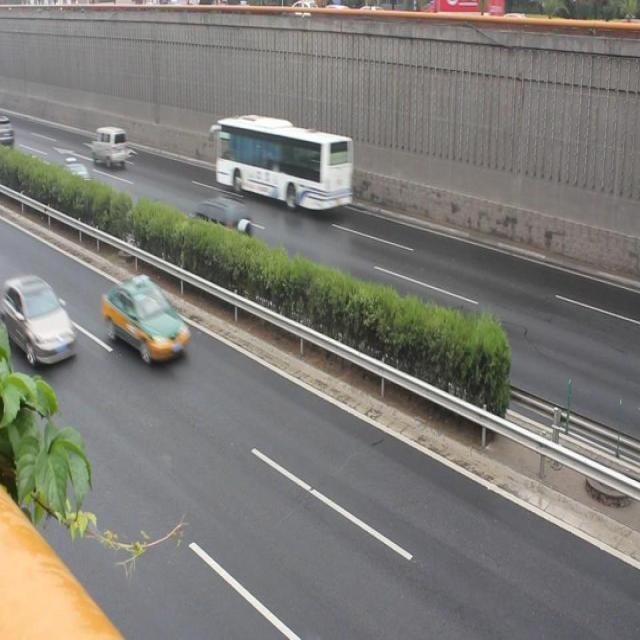car: (102, 274, 191, 368), (1, 271, 76, 373), (187, 192, 259, 258), (49, 153, 97, 204)
truck: (92, 124, 132, 164)
van: (212, 110, 355, 215)
